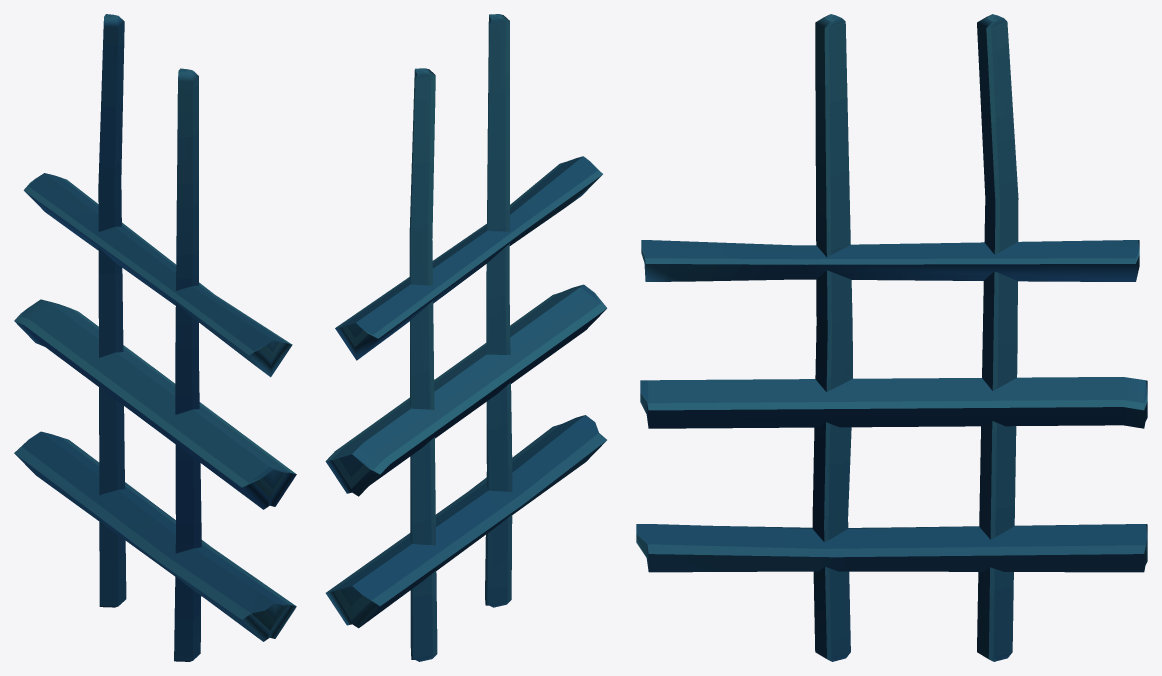
File: Modular_Dungeon_Window_Bars.fbx
3 views of the same model, side by side, from view 1: azimuth 30°, elevation 25°; view 2: azimuth 150°, elevation 25°; view 3: azimuth 270°, elevation 25° (orthographic). The views are drawn at different scales.
Visible parts, largest first — view 1: Window_Bars; view 2: Window_Bars; view 3: Window_Bars.
Part boxes in pixels (x1,y1,x2,y2): Window_Bars: (14,14,296,661); Window_Bars: (325,14,607,661); Window_Bars: (636,14,1147,661).
Bounding box in the file's own units: 0.1771 × 1.81 × 1.31.
Materials: 1 (1 with a texture image).
